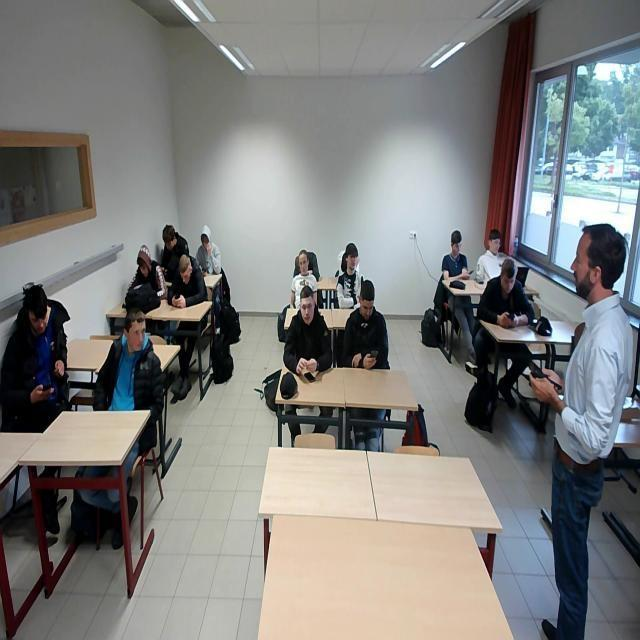phone_use: (0, 283, 67, 430), (341, 279, 387, 367), (477, 257, 532, 326), (166, 254, 205, 306), (160, 224, 187, 281), (441, 229, 468, 279), (195, 224, 219, 273)
